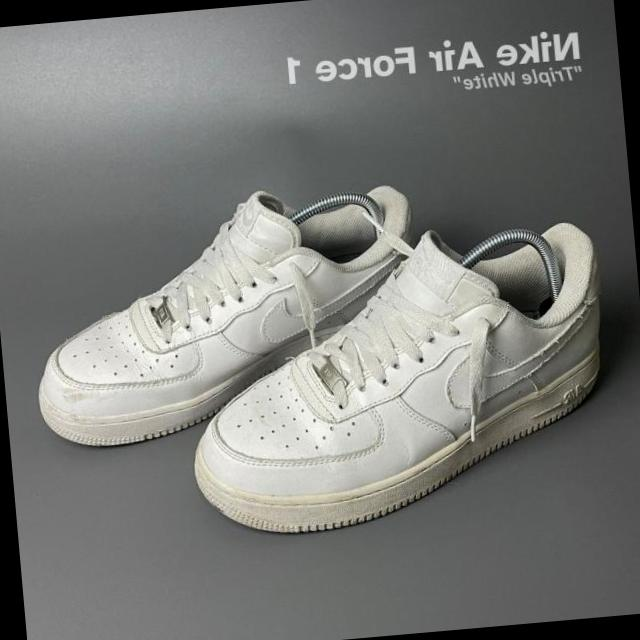nike_fake_airforce: (171, 214, 640, 545), (11, 178, 457, 458)
